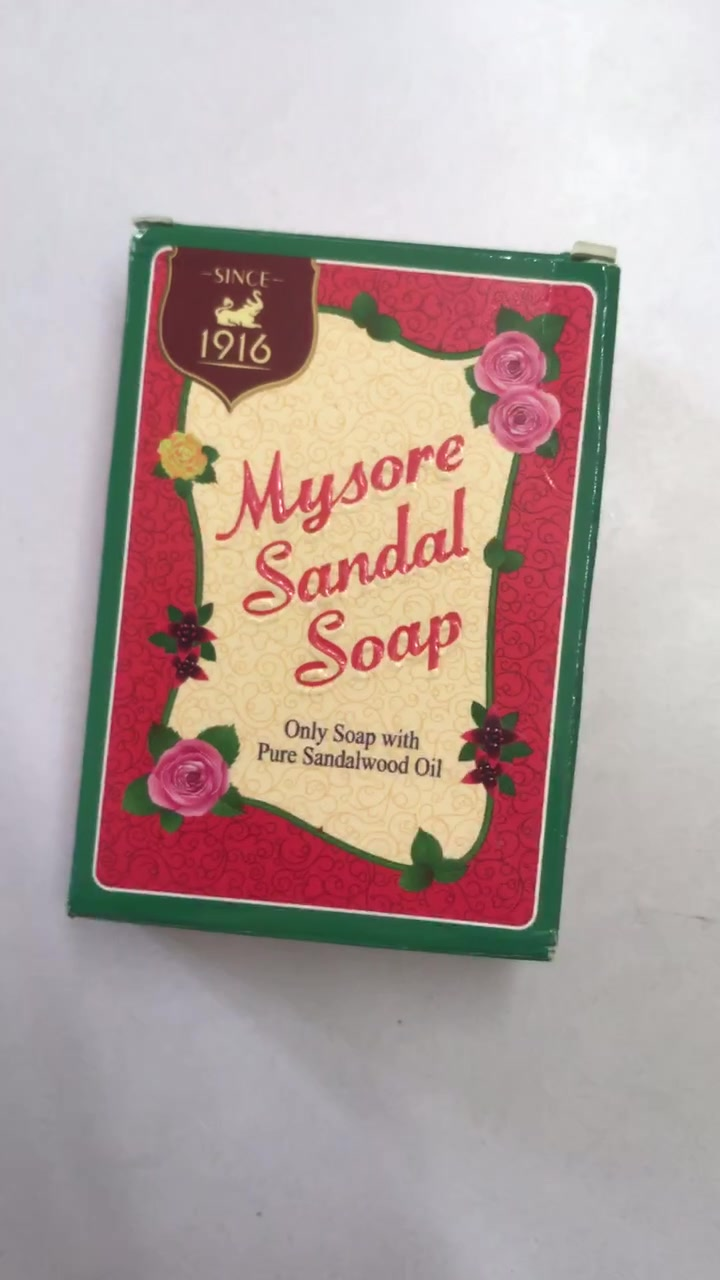mysore sandal soap: (70, 217, 616, 966)
